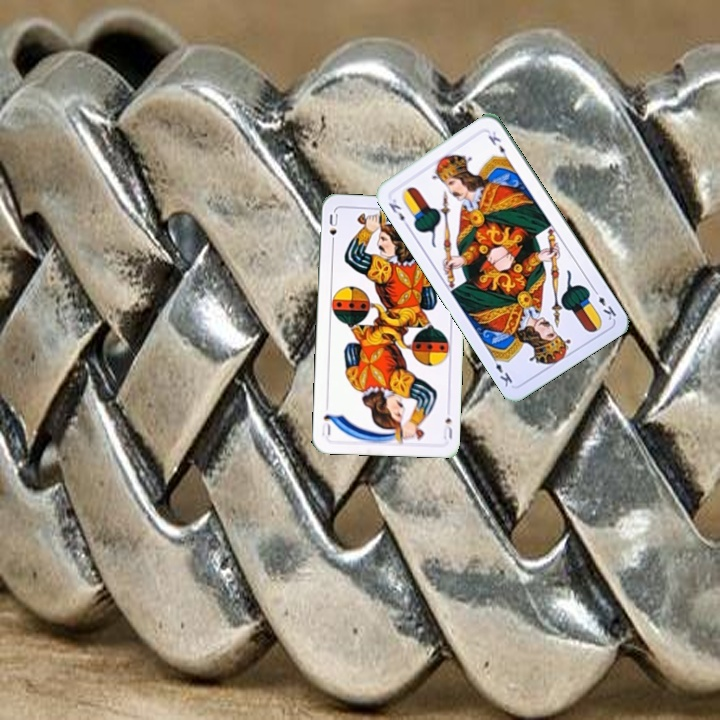EK: (589, 285, 619, 323), (384, 195, 412, 230)
SU: (325, 210, 340, 249), (439, 413, 455, 442)
